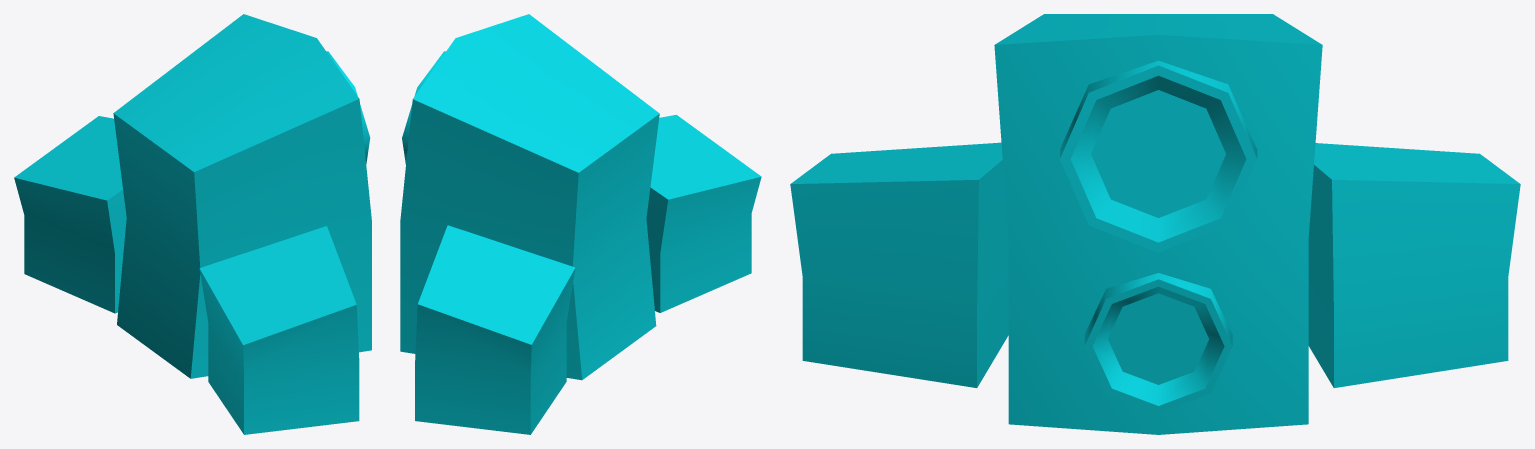
The model's file is Casse.fbx.
3 renders of one model, left to right at view 1: azimuth 30°, elevation 25°; view 2: azimuth 150°, elevation 25°; view 3: azimuth 270°, elevation 25°, orthographic. The views are drawn at different scales.
Visible parts, largest first — view 1: Casse; view 2: Casse; view 3: Casse.
Part boxes in pixels (x1,y1,x2,y2): Casse: (14,14,371,434); Casse: (400,14,761,434); Casse: (790,14,1520,434).
Size of the model in its own units: 90.56 by 110 by 187.
